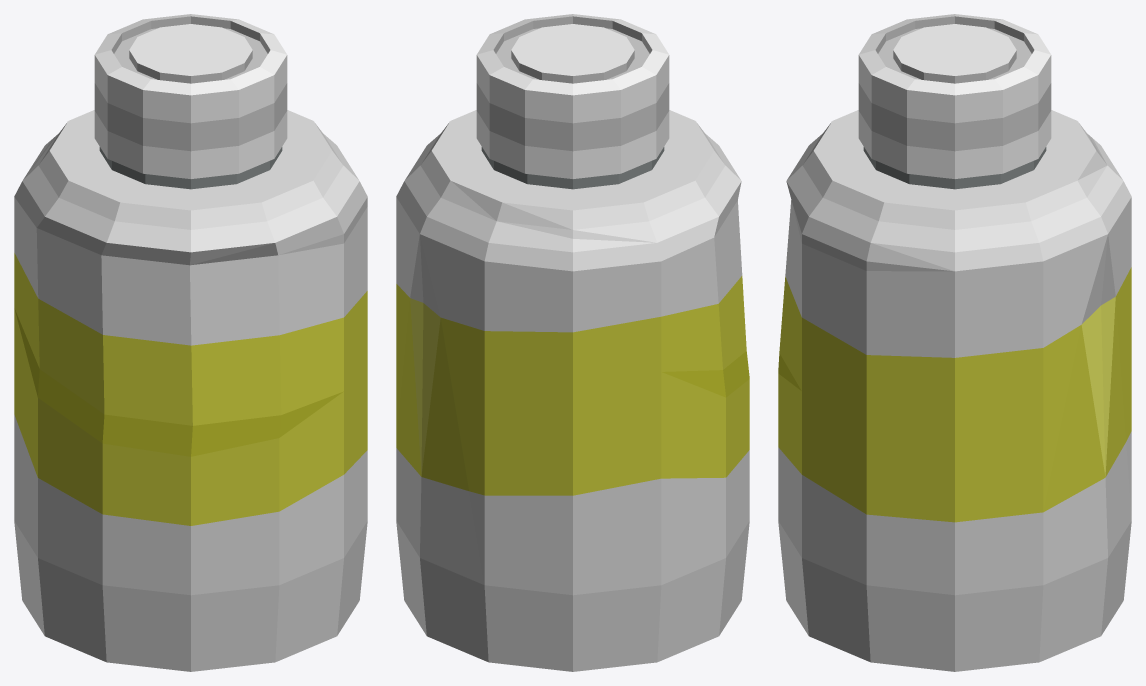
File: mesh_pills_yellow.fbx
3 views of the same model, side by side, from view 1: azimuth 30°, elevation 25°; view 2: azimuth 150°, elevation 25°; view 3: azimuth 270°, elevation 25° (orthographic).
Parts seen in each view (by area): view 1: mesh_pills_yellow; view 2: mesh_pills_yellow; view 3: mesh_pills_yellow.
Boxes of the visible parts, left/top/right/bottom form: mesh_pills_yellow: left=14, top=14, right=367, bottom=671; mesh_pills_yellow: left=396, top=14, right=749, bottom=671; mesh_pills_yellow: left=778, top=14, right=1131, bottom=671.
Size of the model in its own units: 0.1559 by 0.2679 by 0.1559.
